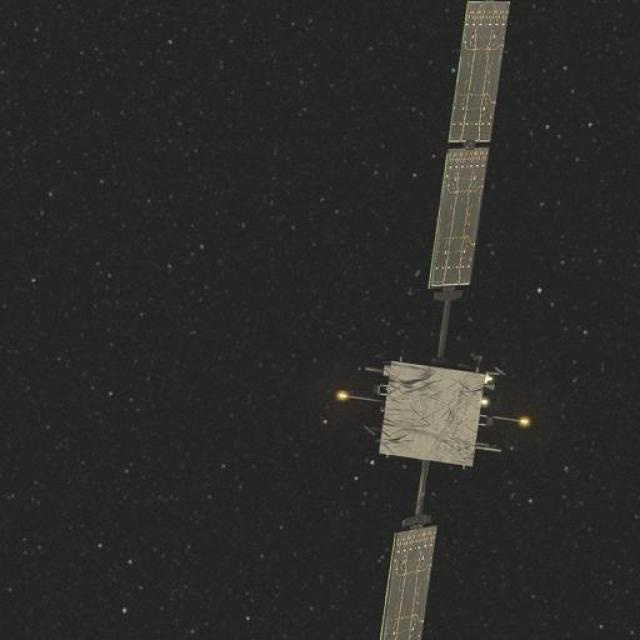smart_1: (325, 134, 528, 609)
